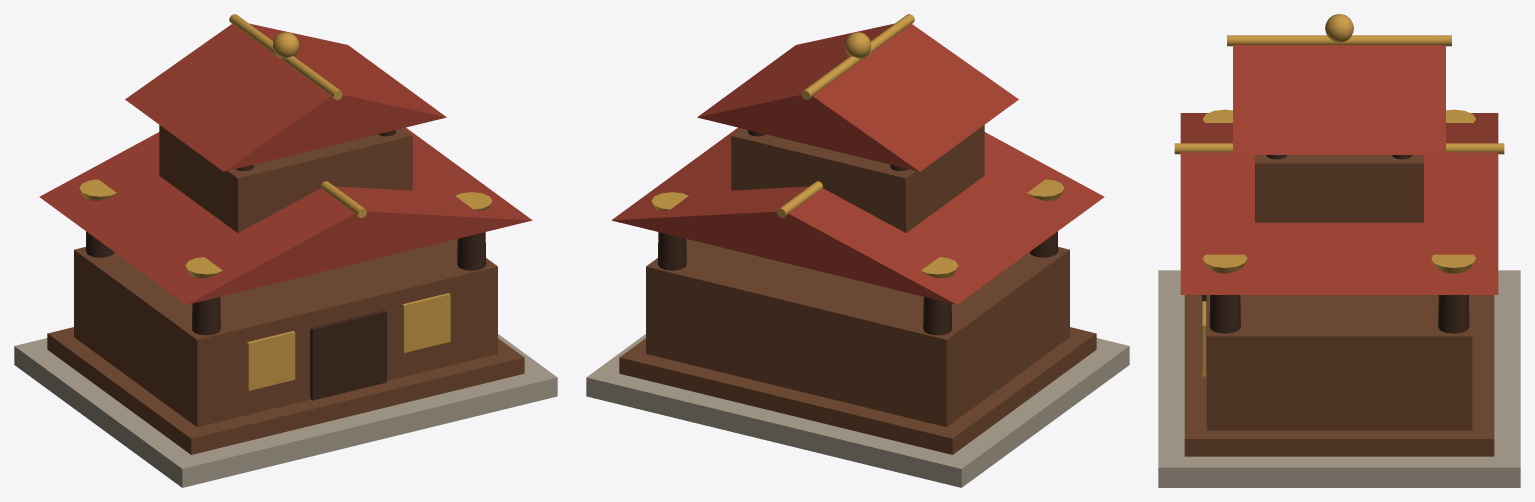
Rendered from pho-hien-pavilion-concept.glb.
3 renders of one model, left to right at view 1: azimuth 30°, elevation 25°; view 2: azimuth 150°, elevation 25°; view 3: azimuth 270°, elevation 25°, orthographic. The views are drawn at different scales.
Parts seen in each view (by area): view 1: Lower hall, Main curved roof, Upper curved roof, Stone plinth, Upper plinth, Upper pavilion, Central entrance, Front window (×2), Wooden column (×2), Upper curved roof ridge; view 2: Lower hall, Main curved roof, Upper curved roof, Stone plinth, Upper plinth, Upper pavilion, Wooden column (×2), Upper curved roof ridge; view 3: Main curved roof, Lower hall, Upper curved roof, Stone plinth, Upper plinth, Upper pavilion, Wooden column (×2), Upper curved roof ridge, Main curved roof ridge, object 9, object 11, Roof finial.
Boxes of the visible parts, bbox=[...] form: Lower hall: bbox=[74, 239, 497, 427]; Main curved roof: bbox=[39, 127, 532, 304]; Upper curved roof: bbox=[125, 23, 446, 171]; Stone plinth: bbox=[14, 334, 557, 487]; Upper plinth: bbox=[47, 327, 524, 454]; Upper pavilion: bbox=[159, 125, 412, 232]; Central entrance: bbox=[310, 310, 386, 400]; Front window (×2): bbox=[247, 293, 450, 390]; Wooden column (×2): bbox=[192, 232, 486, 335]; Upper curved roof ridge: bbox=[229, 14, 342, 99]; Lower hall: bbox=[646, 239, 1069, 427]; Main curved roof: bbox=[611, 127, 1104, 304]; Upper curved roof: bbox=[697, 23, 1018, 171]; Stone plinth: bbox=[586, 334, 1129, 487]; Upper plinth: bbox=[619, 327, 1096, 454]; Upper pavilion: bbox=[731, 125, 984, 232]; Wooden column (×2): bbox=[657, 232, 951, 335]; Upper curved roof ridge: bbox=[801, 14, 914, 99]; Main curved roof: bbox=[1180, 113, 1498, 294]; Lower hall: bbox=[1206, 295, 1472, 430]; Upper curved roof: bbox=[1233, 45, 1445, 154]; Stone plinth: bbox=[1158, 270, 1520, 487]; Upper plinth: bbox=[1184, 295, 1494, 456]; Upper pavilion: bbox=[1255, 155, 1423, 222]; Wooden column (×2): bbox=[1209, 295, 1469, 333]; Upper curved roof ridge: bbox=[1227, 35, 1451, 46]; Main curved roof ridge: bbox=[1174, 143, 1504, 154]; object 9: bbox=[1431, 254, 1475, 273]; object 11: bbox=[1203, 254, 1247, 273]; Roof finial: bbox=[1325, 14, 1353, 42].
Bounding box in the file's own units: 5.8 × 5.13 × 4.5.
